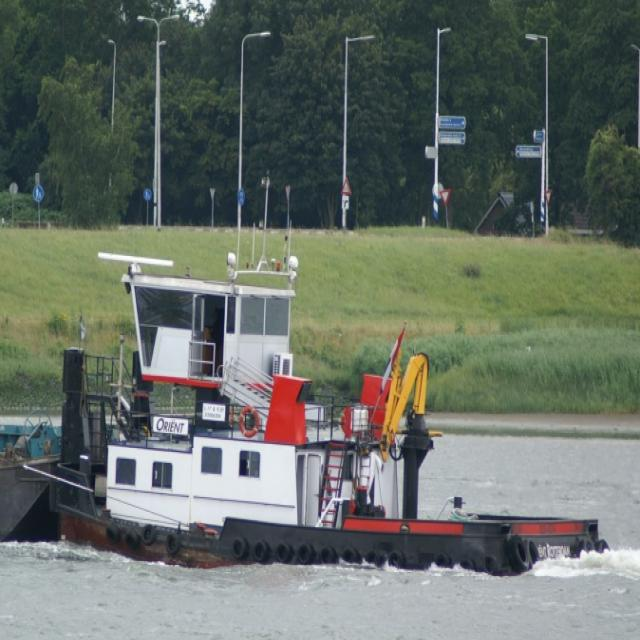tugboat: (44, 241, 613, 599)
